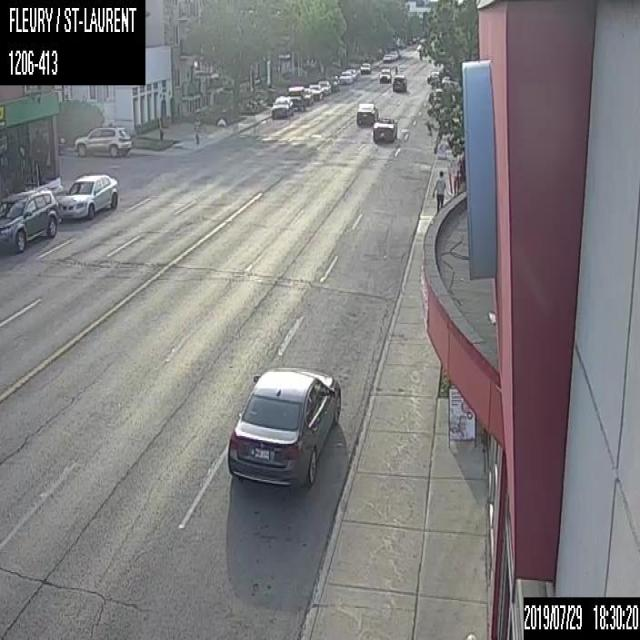cyclist: (393, 62, 398, 74)
pedestrian: (431, 168, 446, 213), (193, 116, 200, 144)
vehicle: (227, 360, 342, 489), (0, 188, 58, 253), (58, 173, 118, 219), (72, 121, 129, 156), (372, 116, 396, 143), (356, 102, 378, 126), (286, 85, 305, 111), (271, 95, 292, 118), (392, 73, 406, 92), (308, 83, 323, 99), (380, 48, 399, 60), (316, 80, 331, 94), (338, 70, 352, 84), (379, 67, 391, 83), (304, 86, 313, 105), (360, 62, 370, 74)
